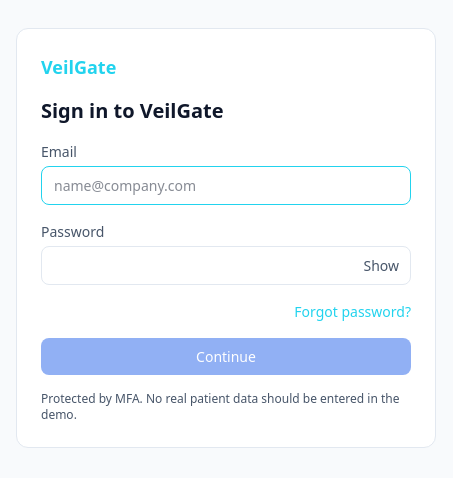
LoginPage › warns about a badly formed email when the field is left
This screenshot has width=453, height=478.
Type "nope" into the field labelled "Email" at {"x": 226, "y": 186}, box [41,166,411,205]
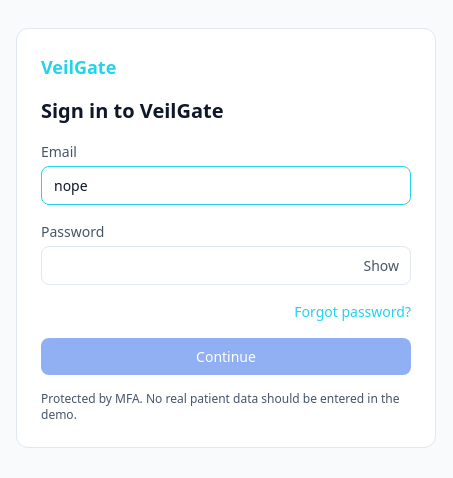
Press Tab
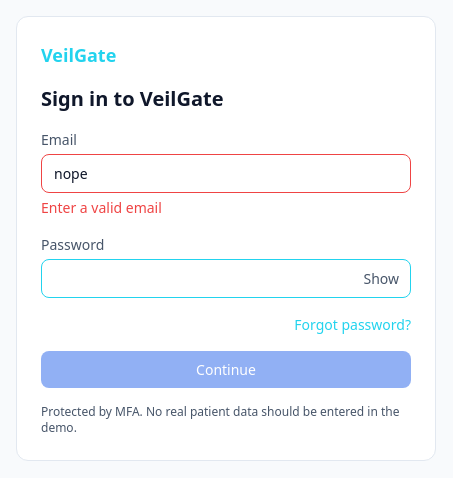
Check: the text "Enter a valid email" is shown, box [41,198,162,216]
